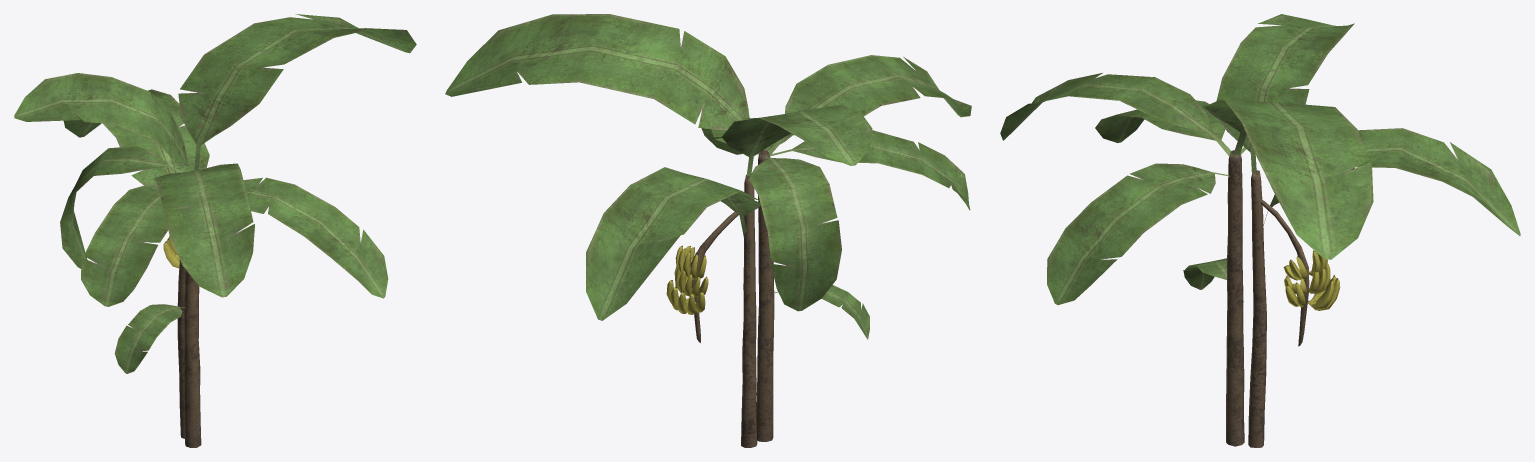
File: banana tree.fbx
The picture shows the model from 3 angles, left to right: view 1: azimuth 30°, elevation 25°; view 2: azimuth 150°, elevation 25°; view 3: azimuth 270°, elevation 25°; orthographic projection. The views are drawn at different scales.
Parts seen in each view (by area): view 1: banana_tree; view 2: banana_tree; view 3: banana_tree.
Part boxes in pixels (x1,y1,x2,y2): banana_tree: (14, 14, 416, 447); banana_tree: (445, 14, 971, 447); banana_tree: (1000, 14, 1520, 447).
Size of the model in its own units: 933 by 800 by 954.
Materials: 1 (1 with a texture image).
